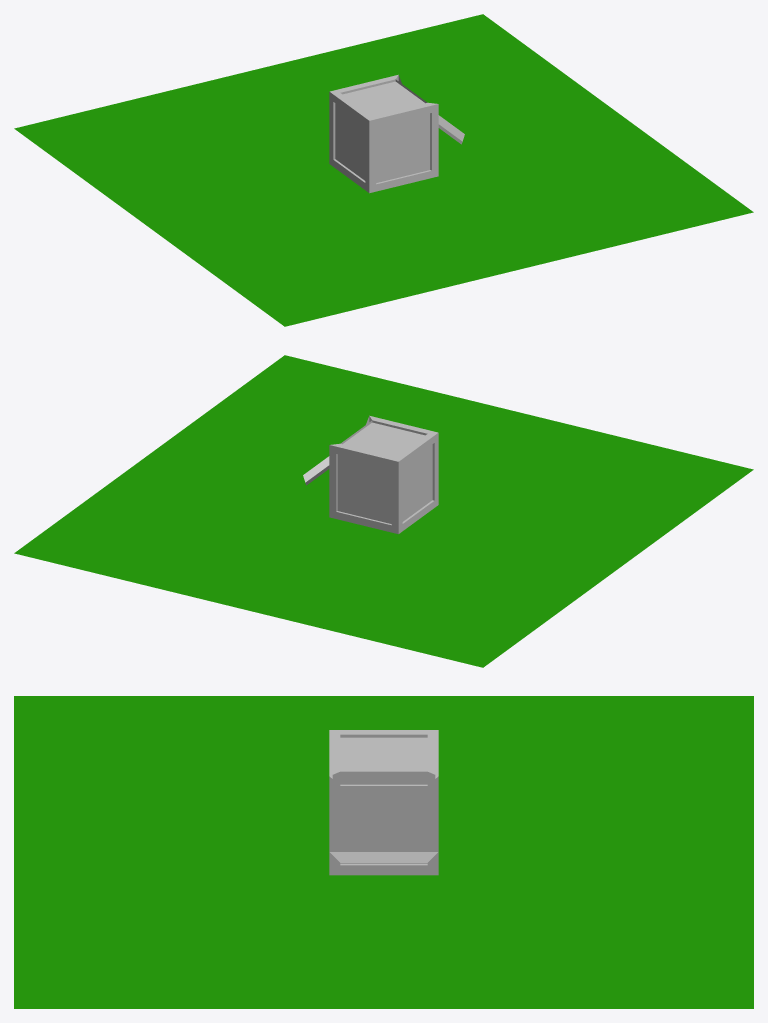
The model's file is caixa_000056.obj.
3 renders of one model, top to bottom at view 1: azimuth 30°, elevation 25°; view 2: azimuth 150°, elevation 25°; view 3: azimuth 270°, elevation 25°, orthographic. The views are drawn at different scales.
Visible parts, largest first — view 1: Plane, Cube_Cube.003; view 2: Plane, Cube_Cube.003; view 3: Plane, Cube_Cube.003, Cube.002_Cube.001, Cube.001_Cube.000.
Boxes of the visible parts, left/top/right/bottom form: Plane: left=14, top=14, right=753, bottom=326; Cube_Cube.003: left=329, top=74, right=438, bottom=193; Plane: left=14, top=355, right=753, bottom=667; Cube_Cube.003: left=329, top=415, right=438, bottom=534; Plane: left=14, top=696, right=753, bottom=1008; Cube_Cube.003: left=329, top=730, right=438, bottom=875; Cube.002_Cube.001: left=340, top=784, right=427, bottom=863; Cube.001_Cube.000: left=330, top=852, right=437, bottom=862.
Size of the model in its own units: 13.55 by 2.01 by 13.55.
